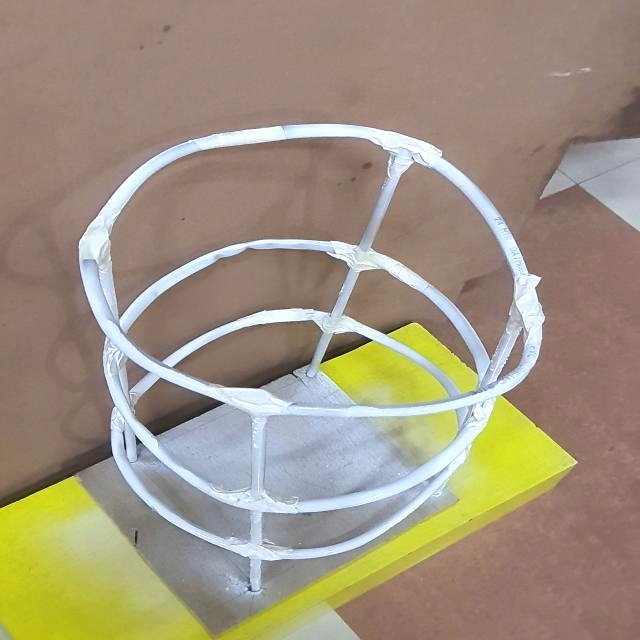silo: (46, 125, 551, 598)
